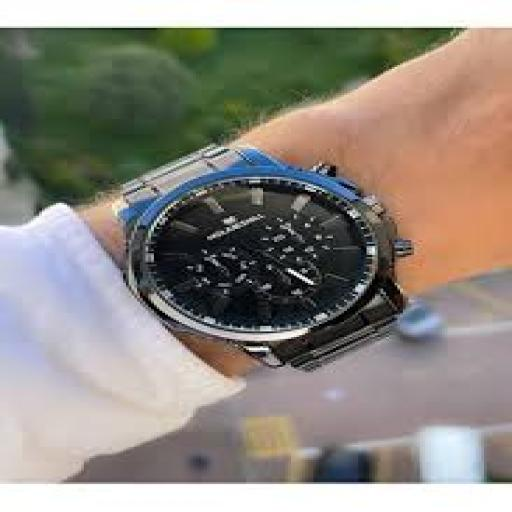KolSaati: (114, 95, 432, 375)
